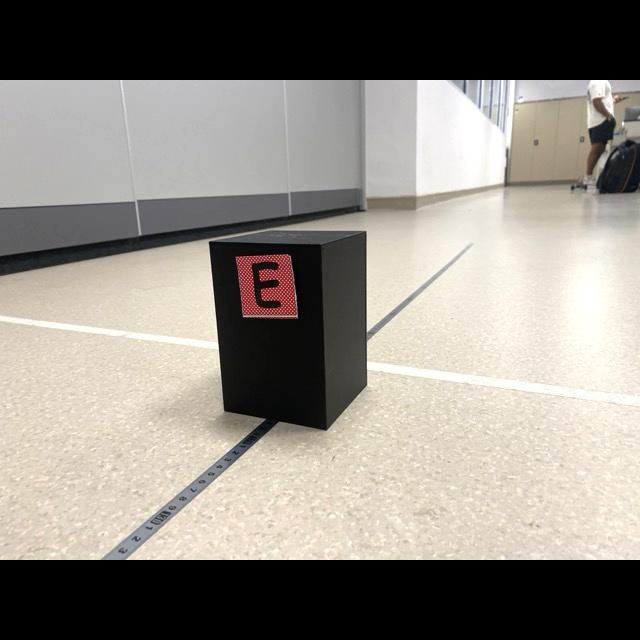E: (252, 262, 281, 308)
